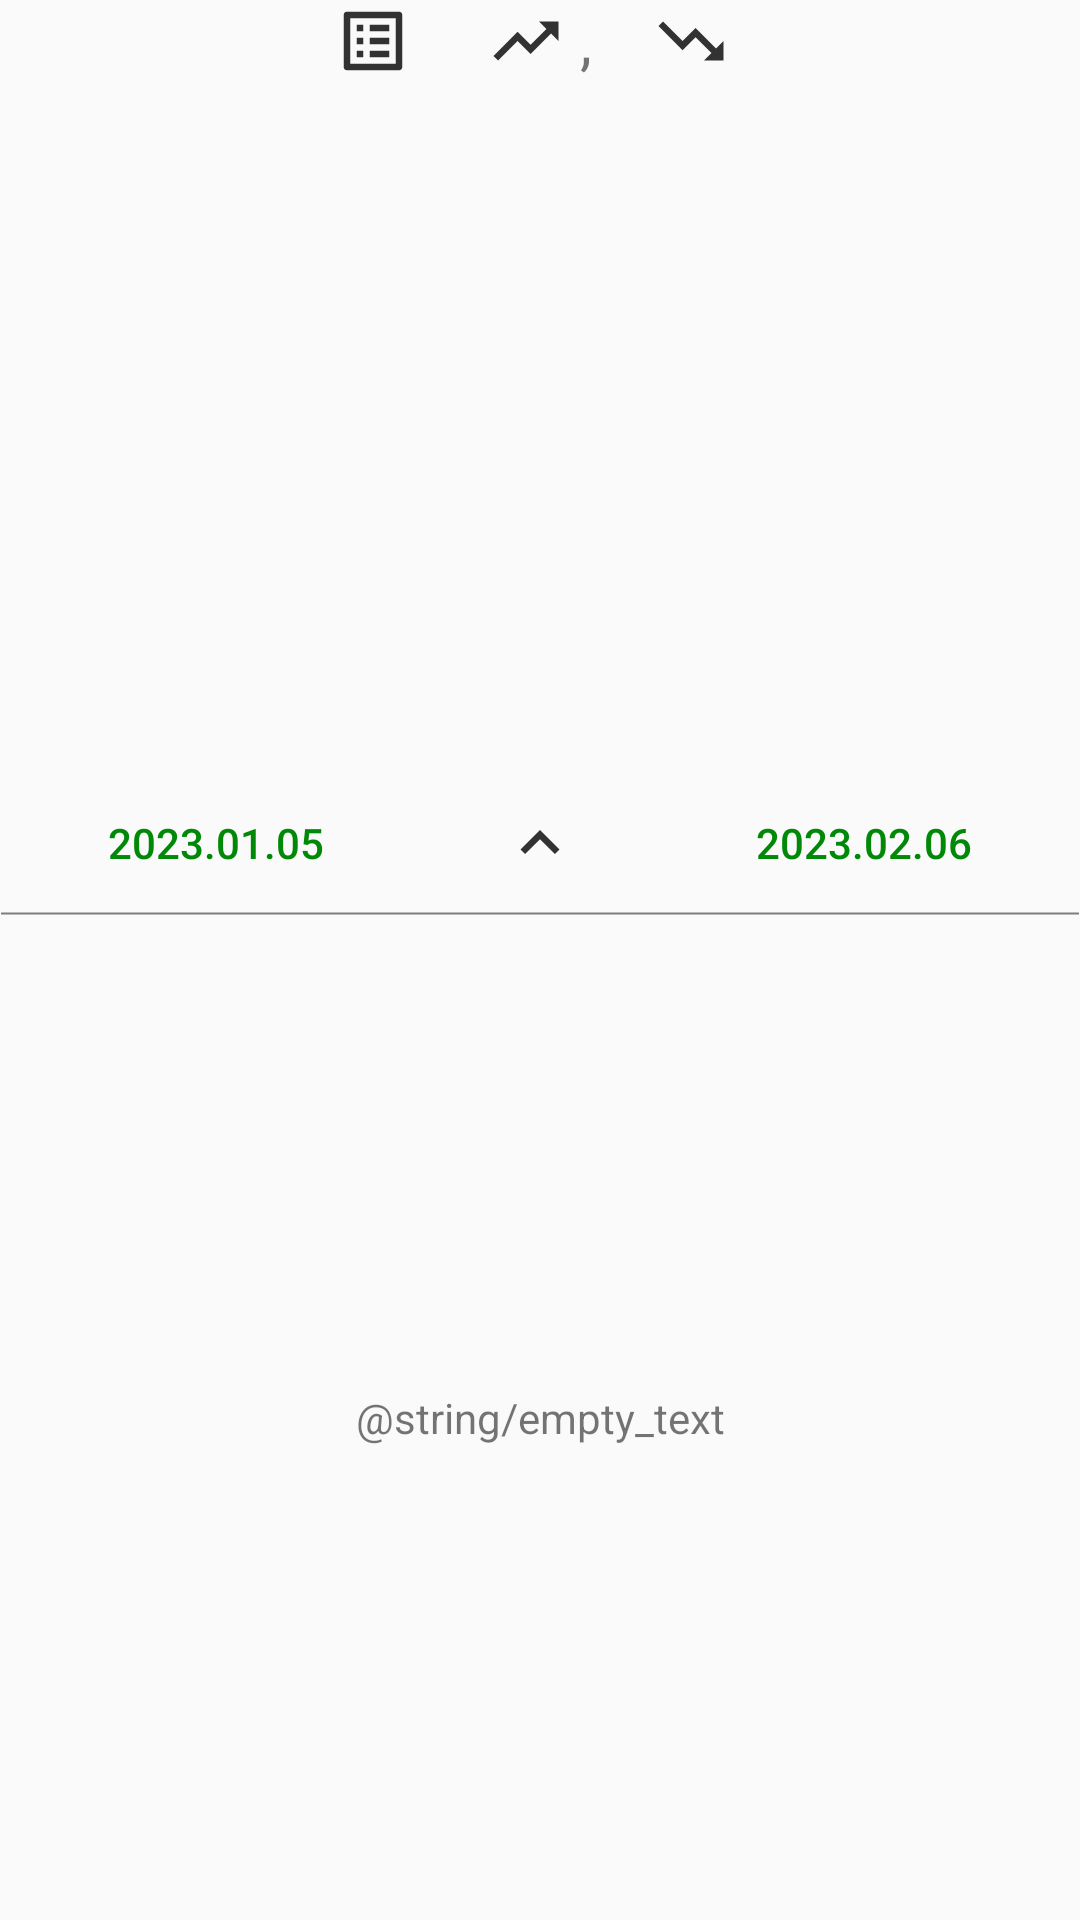

Icons on this 1080w x 1920h Android screen, each with its box as (x1, y1, x2, y2):
entries: (343, 11, 403, 71)
max: (493, 21, 559, 61)
min: (658, 21, 724, 61)
